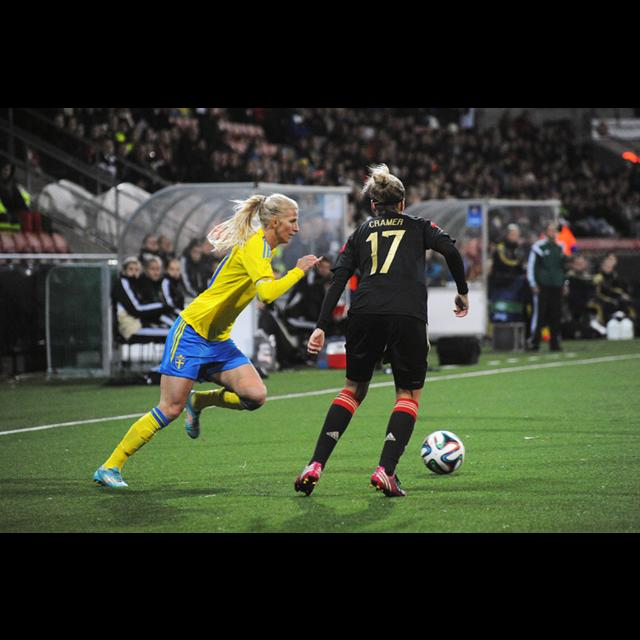Football: (420, 429, 464, 475)
